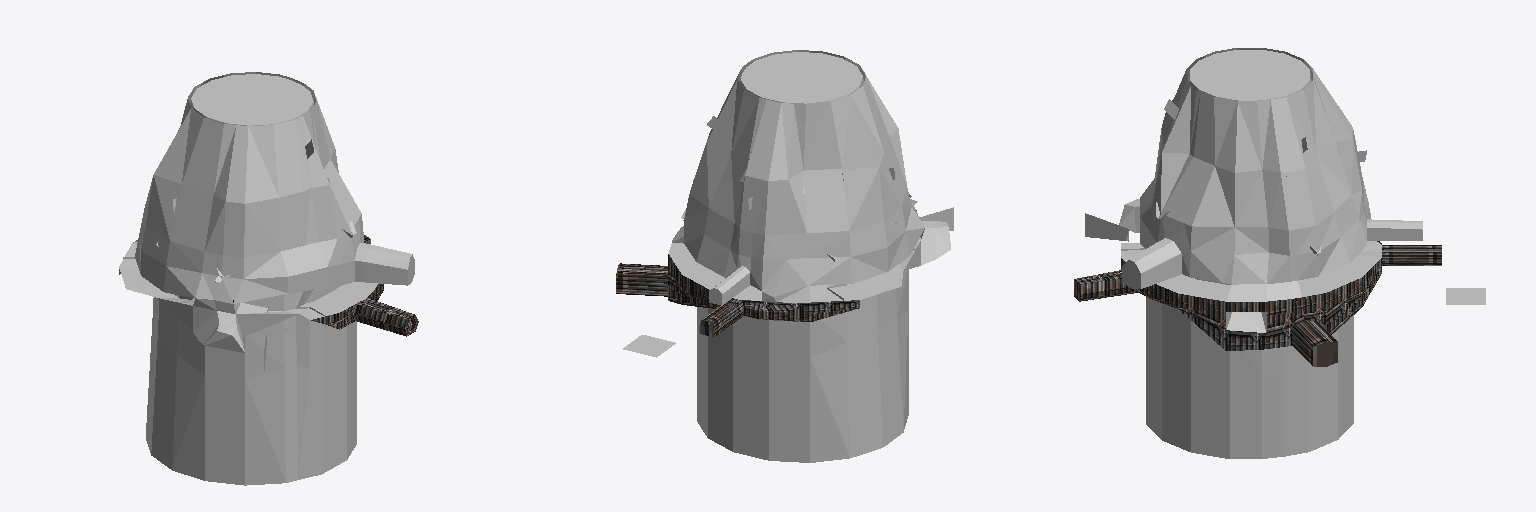
The picture shows the model from 3 angles: view 1: azimuth 30°, elevation 25°; view 2: azimuth 150°, elevation 25°; view 3: azimuth 270°, elevation 25°; orthographic projection.
Parts seen in each view (by area): view 1: #Room0#_Roof#NoCollision_Material., #Room0#_Room0#IndoorEnv01_Material.002., #Room0#_Room0#IndoorEnv01_Rock2., #Room0#_Room0#IndoorEnv01_Rock.001., #Room0#_Room0#IndoorEnv01_Rock., #Room0#_Light#NoCollision#AlphaFA.001_Light., #Room0#_Stone#IndoorEnv01#Stone_Stone(Crack).001., #Room0#_Room0#IndoorEnv01_material_10., #Room0#_Room0#IndoorEnv01_Stone(Crack).001.; view 2: #Room0#_Roof#NoCollision_Material., #Room0#_Room0#IndoorEnv01_Material.002., #Room0#_Room0#IndoorEnv01_Rock.001., #Room0#_Room0#IndoorEnv01_Rock2., #Room0#_Room0#IndoorEnv01_Rock., #Room0#_Room0#IndoorEnv01_material_10., #Room0#_Light#NoCollision#AlphaFA.001_Light., #Room0#_Stone#IndoorEnv01#Stone_Stone(Crack).001., #Room0#_Room0#IndoorEnv01_Stone(Crack).001., #Room1#_Plane_Brick.; view 3: #Room0#_Roof#NoCollision_Material., #Room0#_Room0#IndoorEnv01_Rock2., #Room0#_Room0#IndoorEnv01_Material.002., #Room0#_Room0#IndoorEnv01_material_10., #Room0#_Light#NoCollision#AlphaFA.001_Light., #Room0#_Room0#IndoorEnv01_Rock., #Room0#_Room0#IndoorEnv01_Rock.001., #Room0#_Stone#IndoorEnv01#Stone_Stone(Crack).001., #Room0#_Room0#IndoorEnv01_Filler., #Room0#_Stone#IndoorEnv01#Stone.001_Stone(Crack).001., #Room0#_CollisionCube#NoMesh_Material.005., #Room1#_Plane_Brick..
Boxes of the visible parts, <box> form: #Room0#_Roof#NoCollision_Material.: <box>144,72,361,257</box>; #Room0#_Room0#IndoorEnv01_Material.002.: <box>135,211,414,352</box>; #Room0#_Room0#IndoorEnv01_Rock2.: <box>172,340,356,485</box>; #Room0#_Room0#IndoorEnv01_Rock.001.: <box>146,325,309,485</box>; #Room0#_Room0#IndoorEnv01_Rock.: <box>152,297,356,380</box>; #Room0#_Light#NoCollision#AlphaFA.001_Light.: <box>190,74,313,125</box>; #Room0#_Stone#IndoorEnv01#Stone_Stone(Crack).001.: <box>119,242,377,319</box>; #Room0#_Room0#IndoorEnv01_material_10.: <box>119,235,418,336</box>; #Room0#_Room0#IndoorEnv01_Stone(Crack).001.: <box>119,240,307,318</box>; #Room0#_Roof#NoCollision_Material.: <box>689,50,906,235</box>; #Room0#_Room0#IndoorEnv01_Material.002.: <box>684,188,950,305</box>; #Room0#_Room0#IndoorEnv01_Rock.001.: <box>733,318,902,462</box>; #Room0#_Room0#IndoorEnv01_Rock2.: <box>697,311,908,462</box>; #Room0#_Room0#IndoorEnv01_Rock.: <box>697,270,908,357</box>; #Room0#_Room0#IndoorEnv01_material_10.: <box>616,254,859,336</box>; #Room0#_Light#NoCollision#AlphaFA.001_Light.: <box>740,52,863,103</box>; #Room0#_Stone#IndoorEnv01#Stone_Stone(Crack).001.: <box>669,236,920,302</box>; #Room0#_Room0#IndoorEnv01_Stone(Crack).001.: <box>774,229,924,302</box>; #Room1#_Plane_Brick.: <box>623,335,675,357</box>; #Room0#_Roof#NoCollision_Material.: <box>1153,48,1362,230</box>; #Room0#_Room0#IndoorEnv01_Rock2.: <box>1146,319,1353,458</box>; #Room0#_Room0#IndoorEnv01_Material.002.: <box>1119,178,1422,288</box>; #Room0#_Room0#IndoorEnv01_material_10.: <box>1074,241,1441,366</box>; #Room0#_Light#NoCollision#AlphaFA.001_Light.: <box>1188,50,1311,100</box>; #Room0#_Room0#IndoorEnv01_Rock.: <box>1146,297,1353,371</box>; #Room0#_Room0#IndoorEnv01_Rock.001.: <box>1191,348,1229,458</box>; #Room0#_Stone#IndoorEnv01#Stone_Stone(Crack).001.: <box>1121,241,1381,301</box>; #Room0#_Room0#IndoorEnv01_Filler.: <box>1226,281,1301,301</box>; #Room0#_Stone#IndoorEnv01#Stone.001_Stone(Crack).001.: <box>1226,312,1266,332</box>; #Room0#_CollisionCube#NoMesh_Material.005.: <box>1085,213,1128,241</box>; #Room1#_Plane_Brick.: <box>1446,288,1485,304</box>.
Size of the model in its own units: 3579 by 4478 by 4854.
Materials: 36 (9 with a texture image).